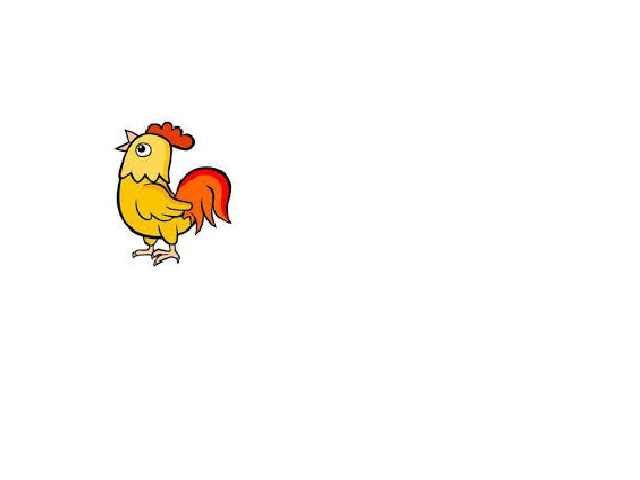crown: (147, 121, 198, 150)
eyes: (137, 142, 152, 159)
feet: (132, 241, 182, 268)
tail: (174, 167, 234, 234)
